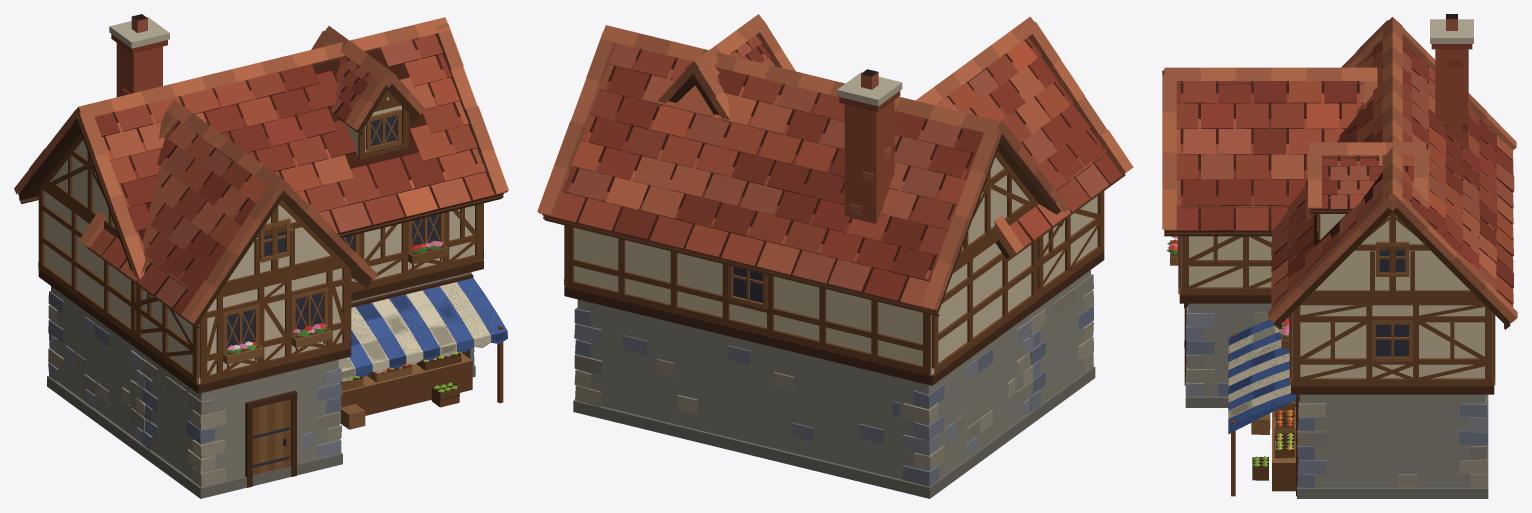
File: town_house_corner.glb
3 renders of one model, left to right at view 1: azimuth 30°, elevation 25°; view 2: azimuth 150°, elevation 25°; view 3: azimuth 270°, elevation 25°, orthographic. The views are drawn at different scales.
Parts seen in each view (by area): view 1: town_house_corner; view 2: town_house_corner; view 3: town_house_corner.
Part boxes in pixels (x1,y1,x2,y2): town_house_corner: [14, 14, 508, 498]; town_house_corner: [537, 14, 1133, 498]; town_house_corner: [1162, 14, 1517, 498].
Bounding box in the file's own units: 11.47 × 10.68 × 9.57.
